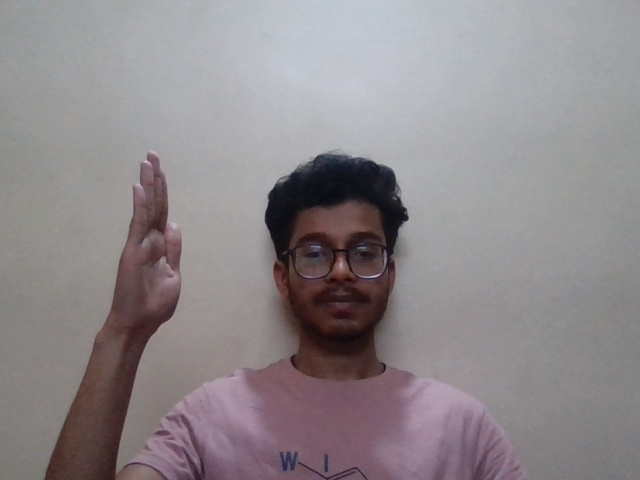fine: (114, 138, 195, 351)
